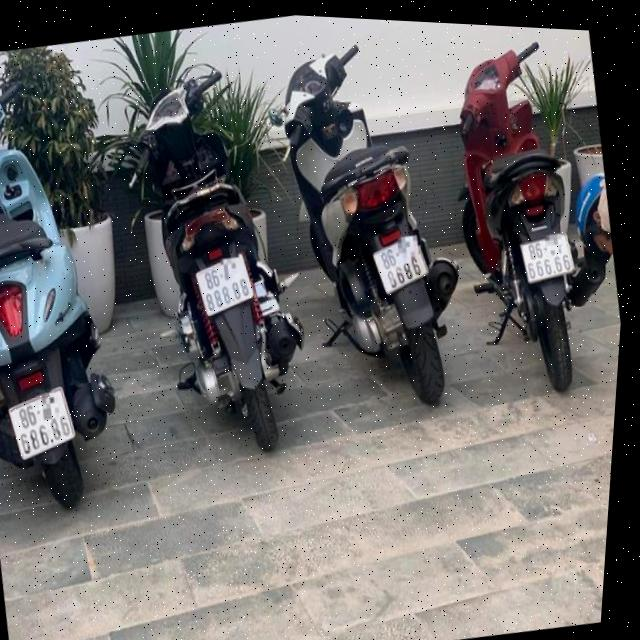motorcycle: (231, 17, 489, 430), (86, 50, 337, 473), (412, 23, 630, 426), (0, 54, 167, 537)
plate: (0, 378, 85, 467), (363, 225, 439, 302), (187, 245, 263, 322), (513, 223, 583, 291)
